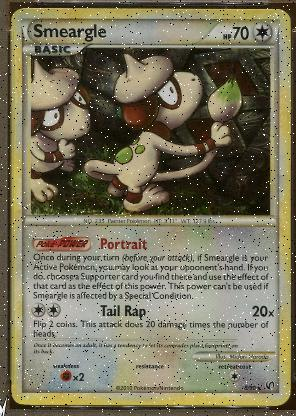Card: (9, 6, 291, 408)
Corner Wear: (14, 400, 32, 406)
